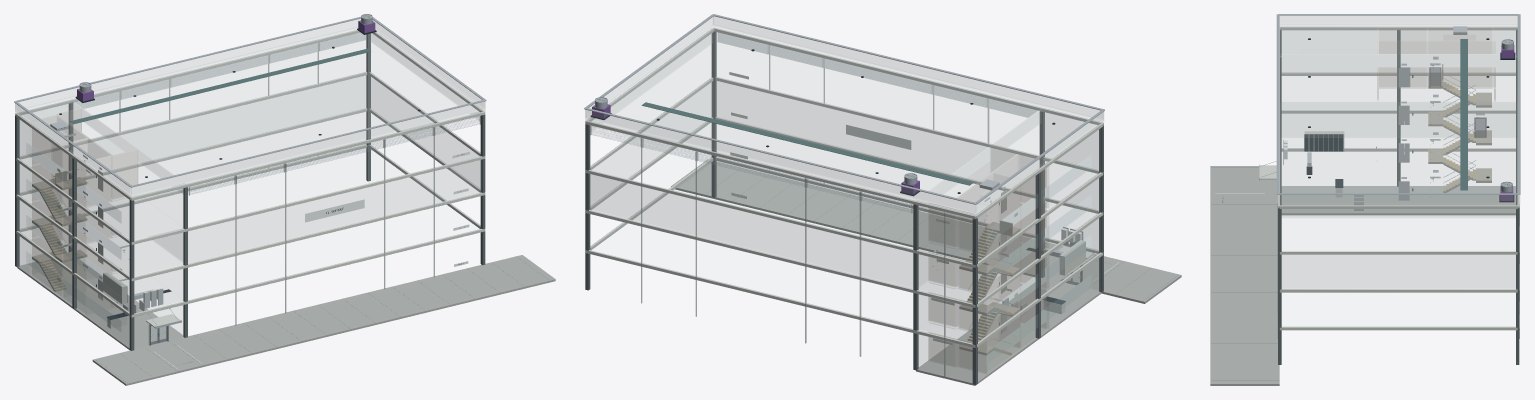
Rendered from fab1-building.glb.
3 renders of one model, left to right at view 1: azimuth 30°, elevation 25°; view 2: azimuth 150°, elevation 25°; view 3: azimuth 270°, elevation 25°, orthographic. The views are drawn at different scales.
Parts seen in each view (by area): view 1: FAB1_RoofSlab, FAB1_Annex_Walls, FAB1_L3_Walls, FAB1_Forecourt, FAB1_Parapet, FAB1_Annex_Ground, FAB1_OALouvres_North, FAB1_ParapetCoping, FAB1_OALouvres_South, FAB1_StairCore_Flights, FAB1_L4_SideInfill, FAB1_RoofFittings (+28 smaller); view 2: FAB1_RoofSlab, FAB1_Annex_Walls, FAB1_L3_Walls, FAB1_Forecourt, FAB1_Parapet, FAB1_Annex_Ground, FAB1_OALouvres_South, FAB1_ParapetCoping, FAB1_OALouvres_North, FAB1_StairCore_Flights, FAB1_L4_SideInfill, FAB1_RoofFittings (+29 smaller); view 3: FAB1_RoofSlab, FAB1_L3_Walls, FAB1_Forecourt, FAB1_Annex_Walls, FAB1_Annex_Ground, FAB1_L4_SideInfill, FAB1_Parapet, FAB1_StairCore_Flights, FAB1_ParapetCoping, FAB1_RoofFittings, FAB1_SideFascia_4.2_18.08, FAB1_SideFascia_17.7_-24.58 (+19 smaller).
Part boxes in pixels (x1,y1,x2,y2): FAB1_RoofSlab: (15, 27, 485, 197); FAB1_Annex_Walls: (19, 100, 183, 348); FAB1_L3_Walls: (95, 76, 481, 263); FAB1_Forecourt: (92, 255, 555, 385); FAB1_Parapet: (15, 19, 485, 195); FAB1_Annex_Ground: (17, 259, 183, 350); FAB1_OALouvres_North: (75, 32, 365, 108); FAB1_ParapetCoping: (14, 16, 486, 187); FAB1_OALouvres_South: (188, 116, 480, 195); FAB1_StairCore_Flights: (32, 171, 86, 291); FAB1_L4_SideInfill: (72, 34, 479, 193); FAB1_RoofFittings: (50, 46, 420, 177); FAB1_RoofSlab: (585, 25, 1103, 215); FAB1_Annex_Walls: (918, 111, 1100, 382); FAB1_L3_Walls: (589, 81, 989, 288); FAB1_Forecourt: (671, 159, 1181, 303); FAB1_Parapet: (585, 16, 1103, 213); FAB1_Annex_Ground: (916, 277, 1101, 385); FAB1_OALouvres_South: (717, 32, 1037, 117); FAB1_ParapetCoping: (584, 14, 1104, 204); FAB1_OALouvres_North: (590, 125, 912, 213); FAB1_StairCore_Flights: (959, 220, 1020, 355); FAB1_L4_SideInfill: (592, 33, 1041, 211); FAB1_RoofFittings: (641, 49, 1055, 193); FAB1_RoofSlab: (1277, 24, 1519, 205); FAB1_L3_Walls: (1282, 102, 1515, 288); FAB1_Forecourt: (1210, 166, 1279, 385); FAB1_Annex_Walls: (1282, 27, 1515, 101); FAB1_Annex_Ground: (1281, 186, 1515, 215); FAB1_L4_SideInfill: (1280, 54, 1516, 217); FAB1_Parapet: (1277, 16, 1519, 203); FAB1_StairCore_Flights: (1428, 64, 1491, 192); FAB1_ParapetCoping: (1276, 14, 1520, 194); FAB1_RoofFittings: (1308, 26, 1489, 190); FAB1_SideFascia_4.2_18.08: (1279, 326, 1517, 330); FAB1_SideFascia_17.7_-24.58: (1280, 26, 1517, 30).
Size of what is drawn, in the model's own units: 52 by 19.84 by 31.3.
10 materials, 1 textured.
